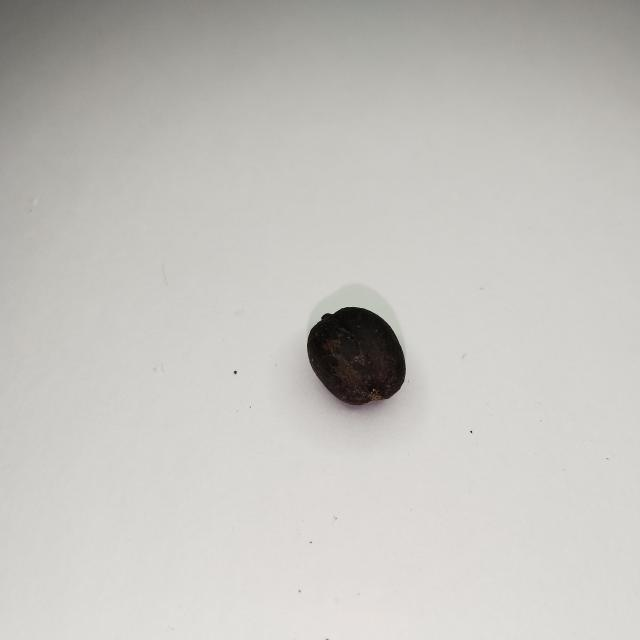Danado: (307, 307, 405, 405)
